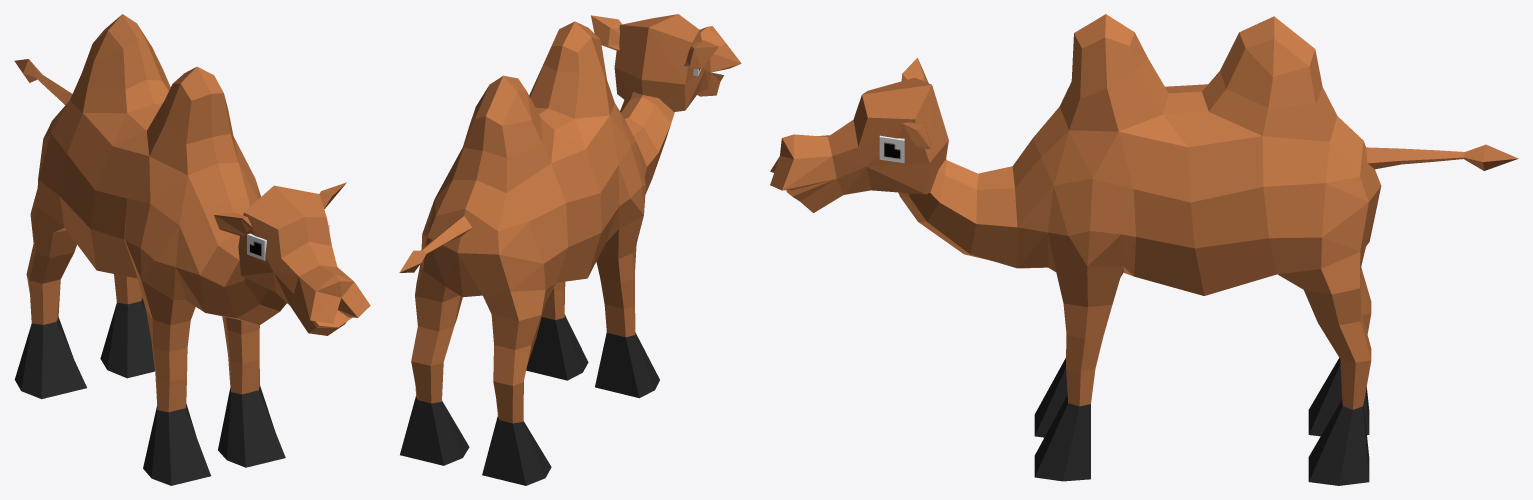
File: luotuo.FBX
3 views of the same model, side by side, from view 1: azimuth 30°, elevation 25°; view 2: azimuth 150°, elevation 25°; view 3: azimuth 270°, elevation 25° (orthographic). The views are drawn at different scales.
Visible parts, largest first — view 1: luotuo; view 2: luotuo; view 3: luotuo.
Part boxes in pixels (<box>): luotuo: <box>14,14,370,485</box>; luotuo: <box>399,14,741,485</box>; luotuo: <box>770,14,1518,485</box>.
Bounding box in the file's own units: 181 × 454 × 713.
